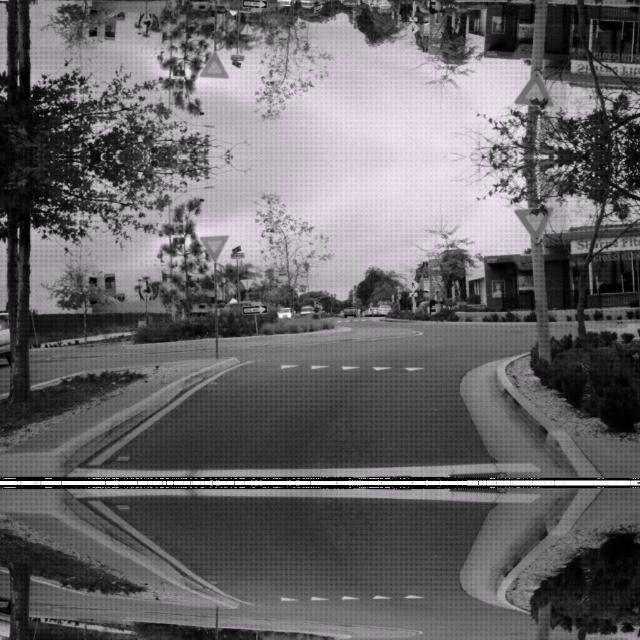pedestrianCrossing: (404, 277, 420, 291), (404, 21, 420, 35)
yield: (514, 204, 554, 242), (514, 70, 554, 108), (199, 232, 229, 260), (199, 52, 229, 80)
